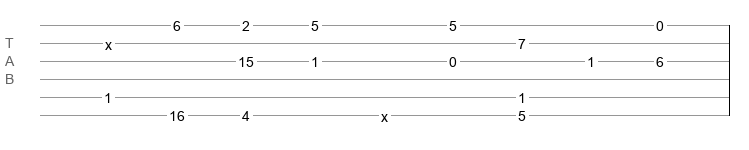0: (449, 54, 457, 64), (656, 18, 664, 28)
1: (104, 90, 112, 100), (311, 54, 319, 64), (518, 90, 526, 100), (587, 54, 595, 64)
15: (238, 54, 254, 64)
16: (169, 108, 185, 118)
2: (242, 18, 250, 28)
4: (242, 108, 250, 118)
5: (311, 18, 319, 28), (449, 18, 457, 28), (518, 108, 526, 118)
6: (173, 18, 181, 28), (656, 54, 664, 64)
7: (518, 36, 526, 46)
x: (105, 37, 112, 45), (381, 109, 388, 117)
